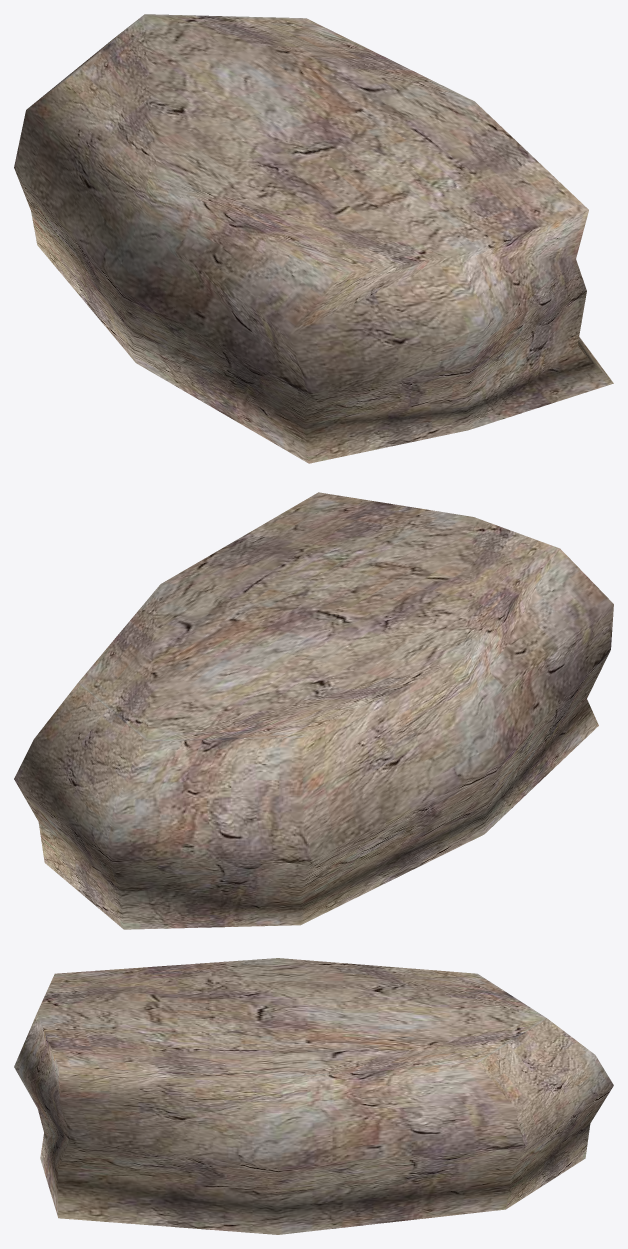
The model's file is elevator.fbx.
The picture shows the model from 3 angles, top to bottom: view 1: azimuth 30°, elevation 25°; view 2: azimuth 150°, elevation 25°; view 3: azimuth 270°, elevation 25°; orthographic projection. The views are drawn at different scales.
Parts seen in each view (by area): view 1: pCube2; view 2: pCube2; view 3: pCube2.
Part boxes in pixels (x1,y1,x2,y2): pCube2: (14,14,613,463); pCube2: (14,492,613,929); pCube2: (14,958,613,1234).
Bounding box in the file's own units: 3.13 × 1.32 × 5.12.
